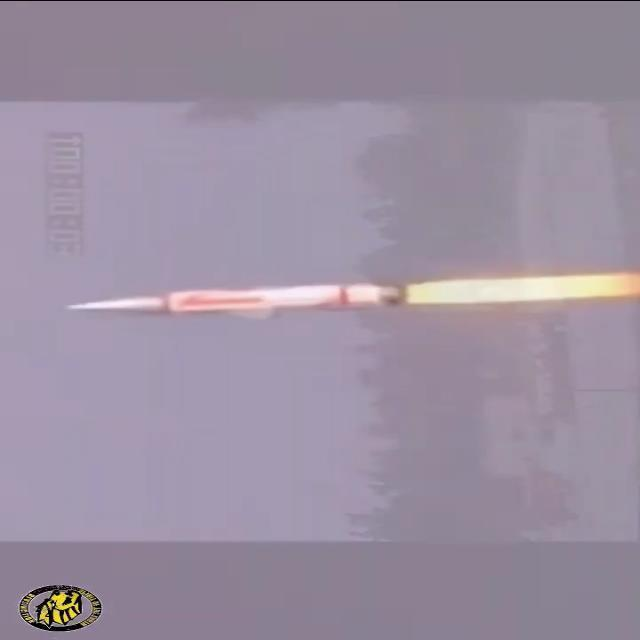missile: (64, 276, 407, 324)
